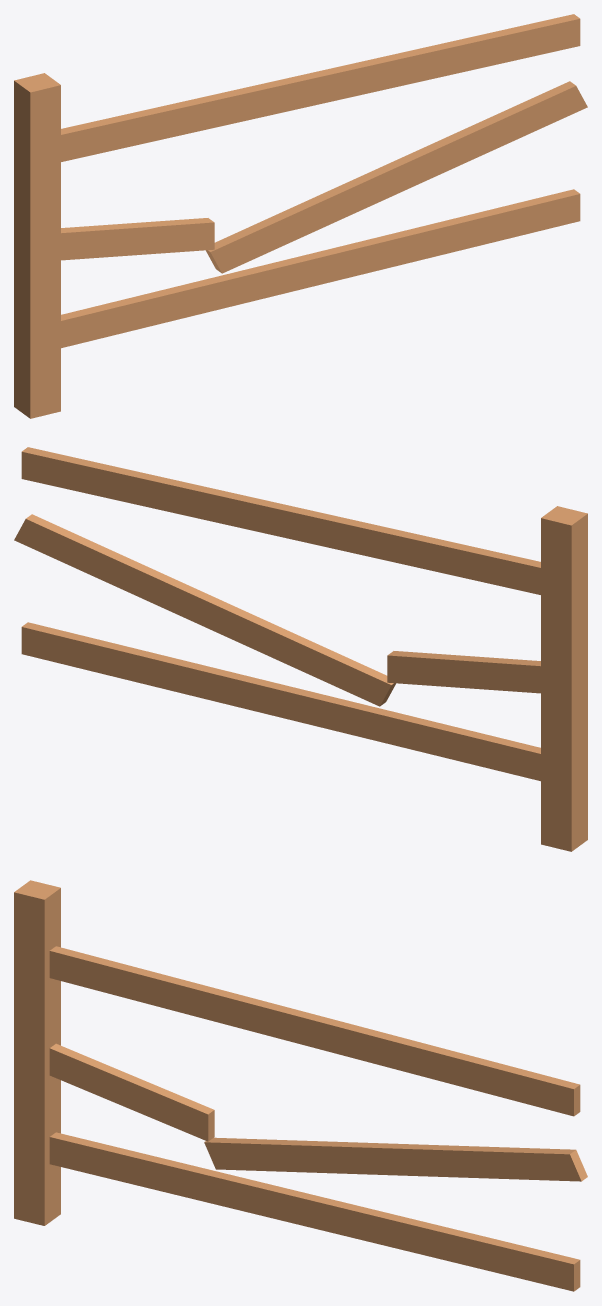
File: fence_03_broken.fbx
3 views of the same model, one above another, from view 1: azimuth 30°, elevation 25°; view 2: azimuth 150°, elevation 25°; view 3: azimuth 330°, elevation 25° (orthographic).
Visible parts, largest first — view 1: fence_03_broken; view 2: fence_03_broken; view 3: fence_03_broken.
Boxes of the visible parts, x1=… form: fence_03_broken: x1=14, y1=14, x2=587, y2=418; fence_03_broken: x1=14, y1=447, x2=587, y2=851; fence_03_broken: x1=14, y1=880, x2=587, y2=1291.
Bounding box in the file's own units: 191 × 106 × 9.65.
